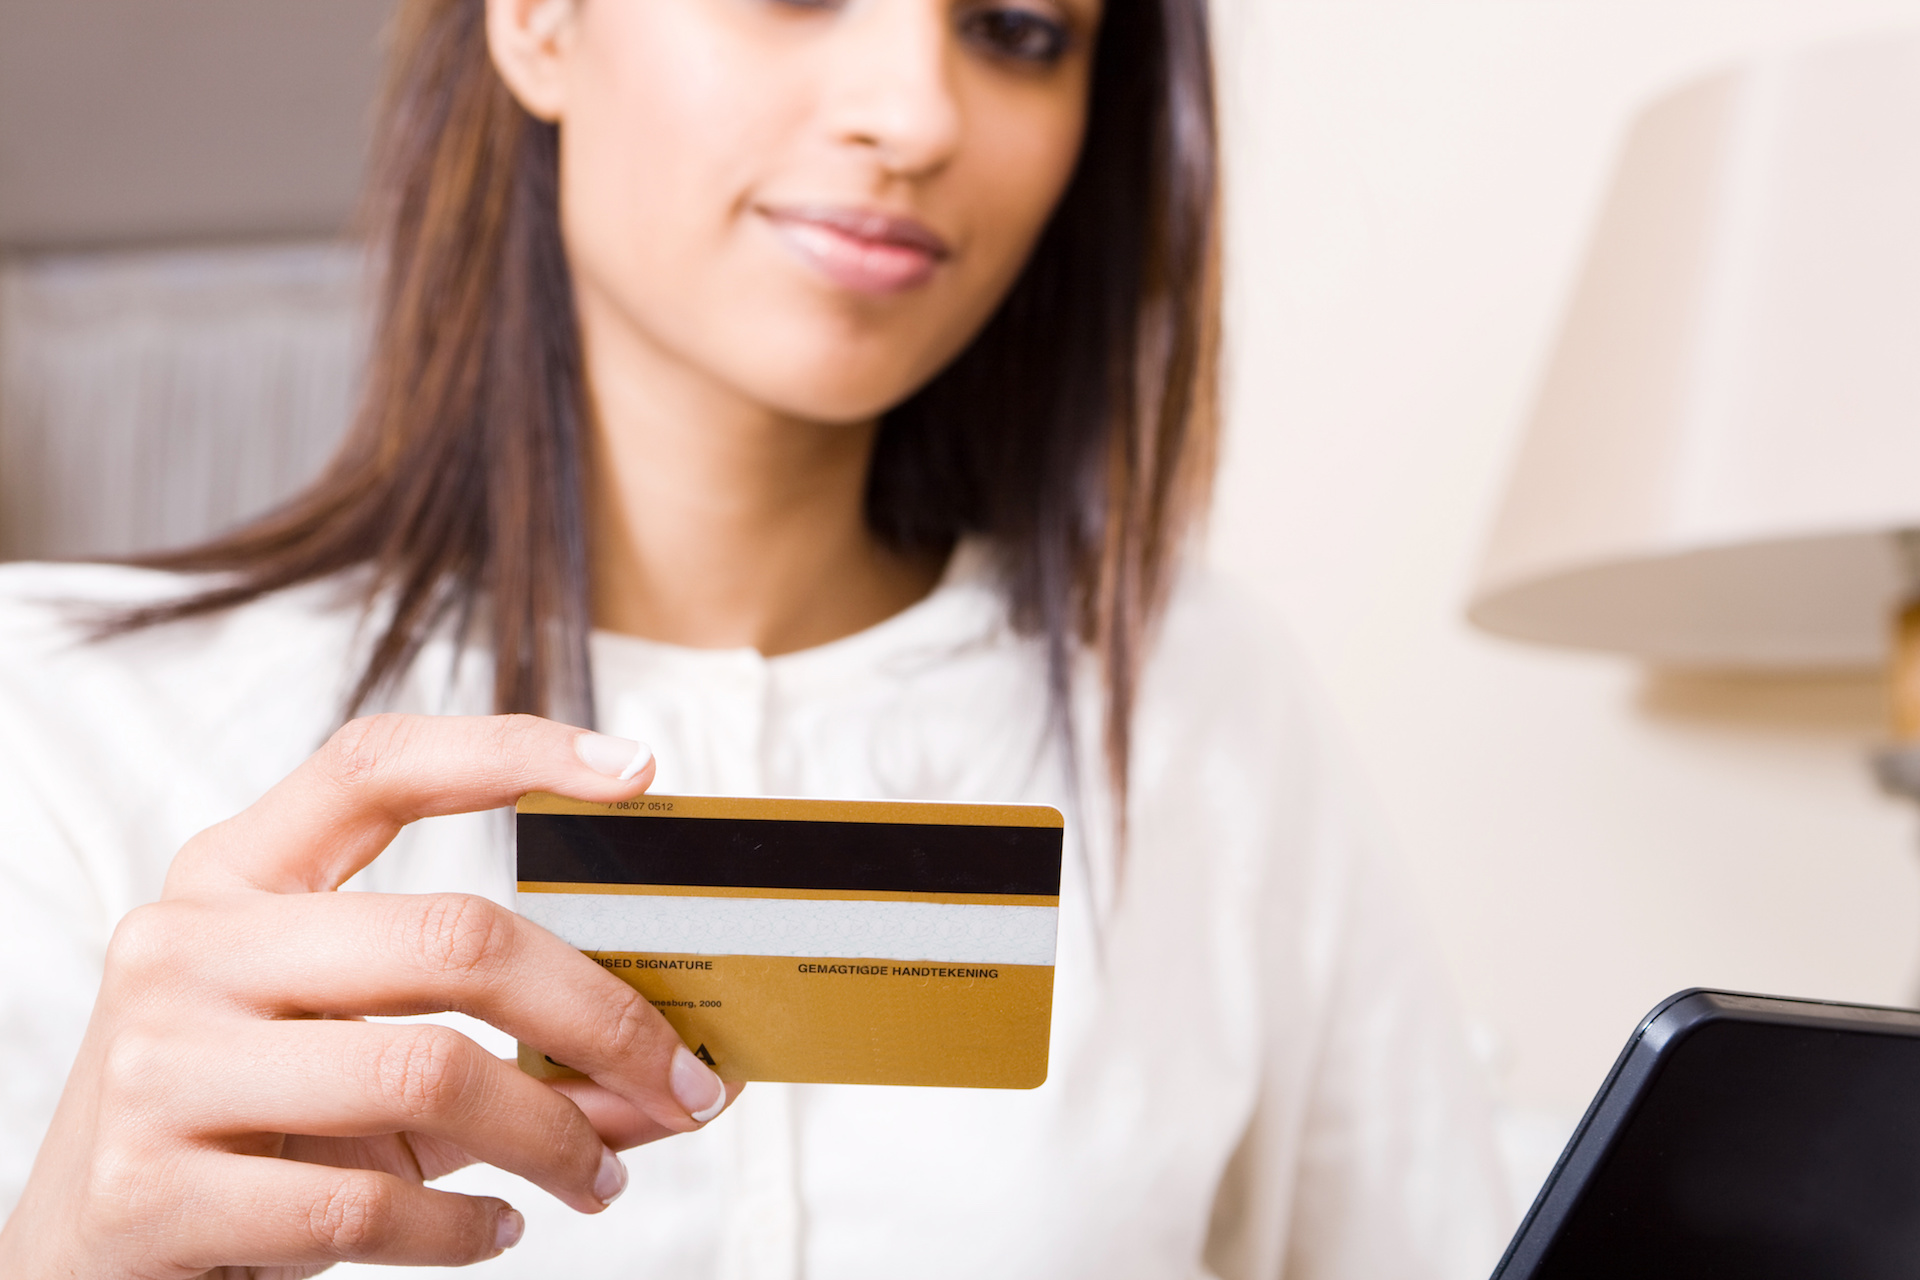tarjeta: (513, 786, 1069, 1094)
